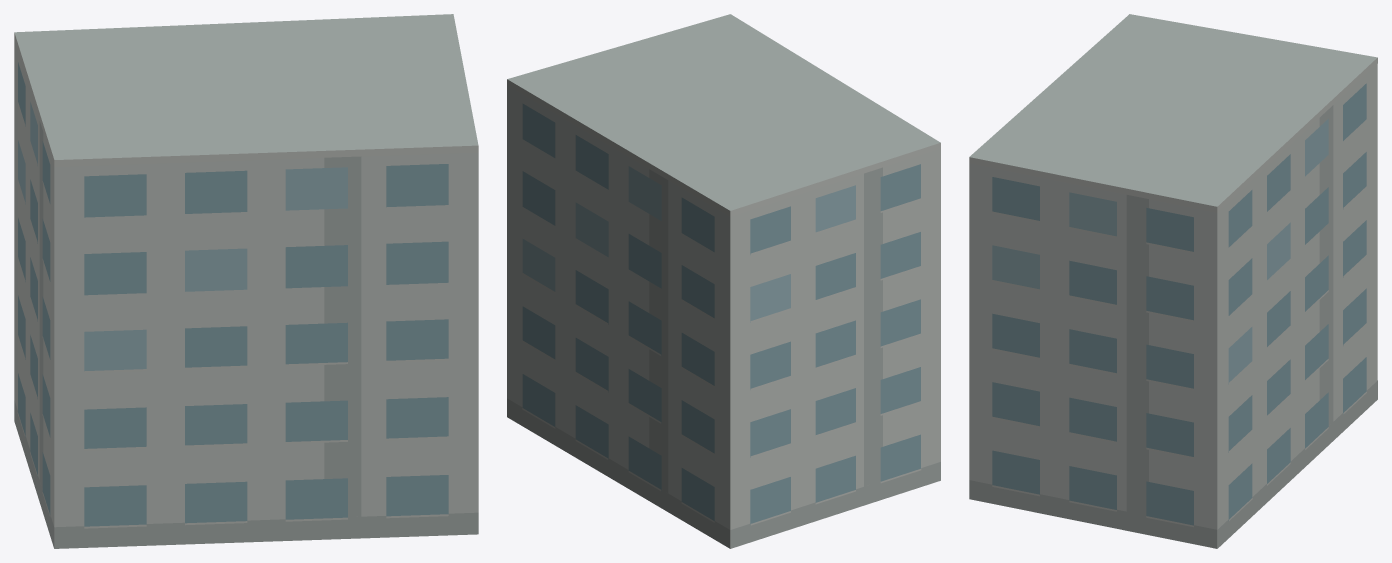
The model's file is survey-upis-32603926.glb.
3 renders of one model, left to right at view 1: azimuth 30°, elevation 25°; view 2: azimuth 150°, elevation 25°; view 3: azimuth 270°, elevation 25°, orthographic. The views are drawn at different scales.
Parts seen in each view (by area): view 1: survey-upis-32603926.tmp; view 2: survey-upis-32603926.tmp; view 3: survey-upis-32603926.tmp.
Part boxes in pixels (x1,y1,x2,y2): survey-upis-32603926.tmp: (14,14,478,548); survey-upis-32603926.tmp: (507,14,940,548); survey-upis-32603926.tmp: (969,14,1377,548).
Size of the model in its own units: 16.63 by 13.75 by 14.89.
